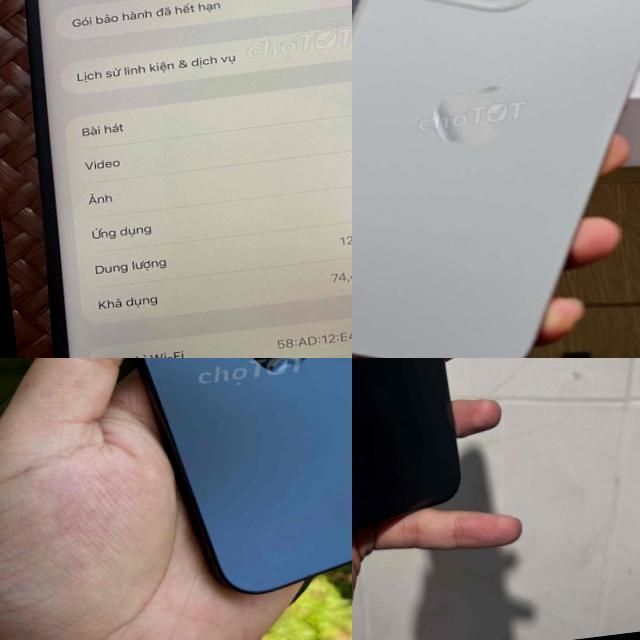gen_11: (352, 358, 495, 540)
gen_14: (0, 0, 352, 358)
gen_15: (72, 358, 352, 621)
gen_16: (352, 0, 640, 358)
